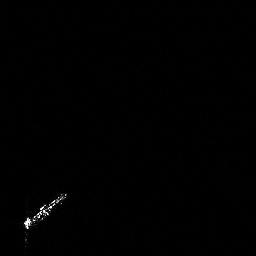ship: (22, 190, 67, 245)
